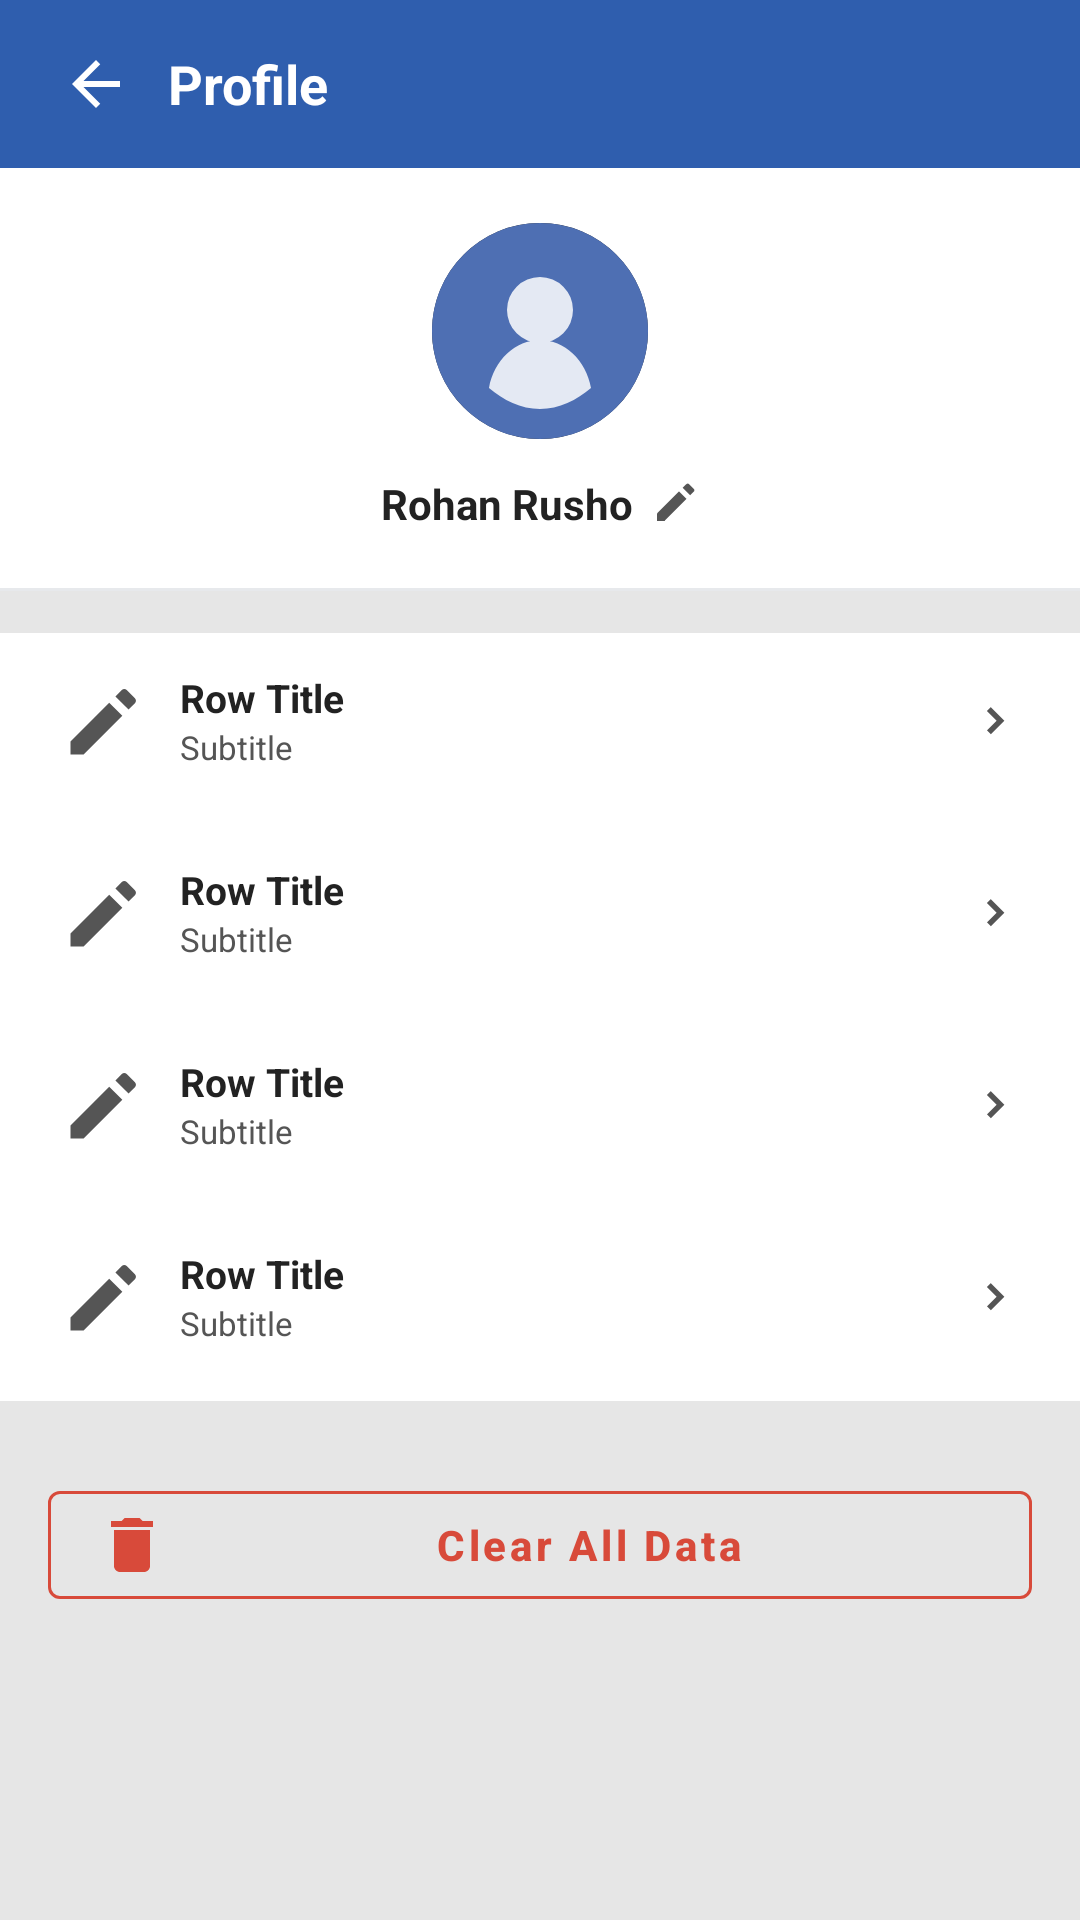

Screen size 1080px×1920px. Icon name, then its center in pixels as [x,y]:
Back: [96,84]
Edit: [676,502]
